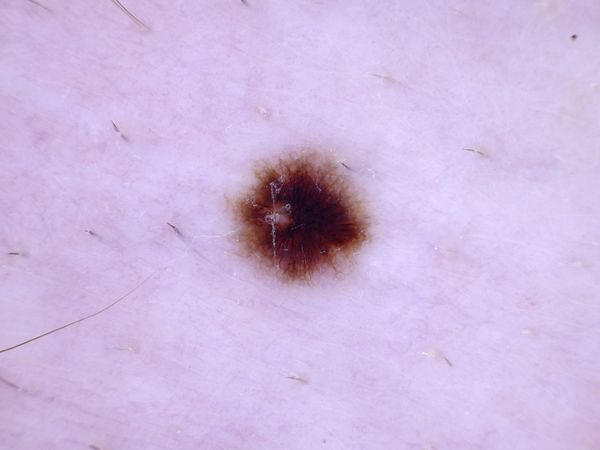Detected Lesion: (228, 145, 373, 288)
